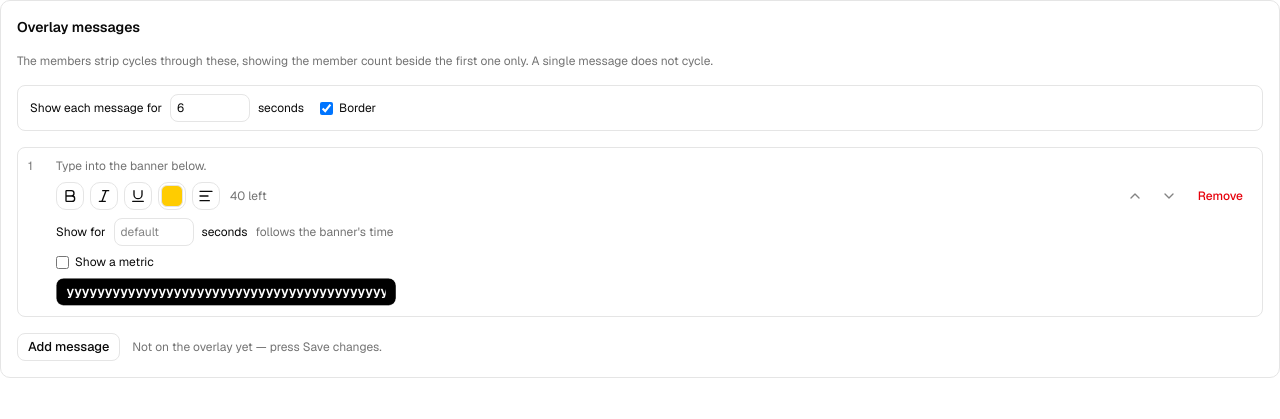
the visible length is capped, and formatting is free › refuses a message whose visible text goes over the cap
Clear the field named "Message 1" at (226, 292), box [66,284,386,300]
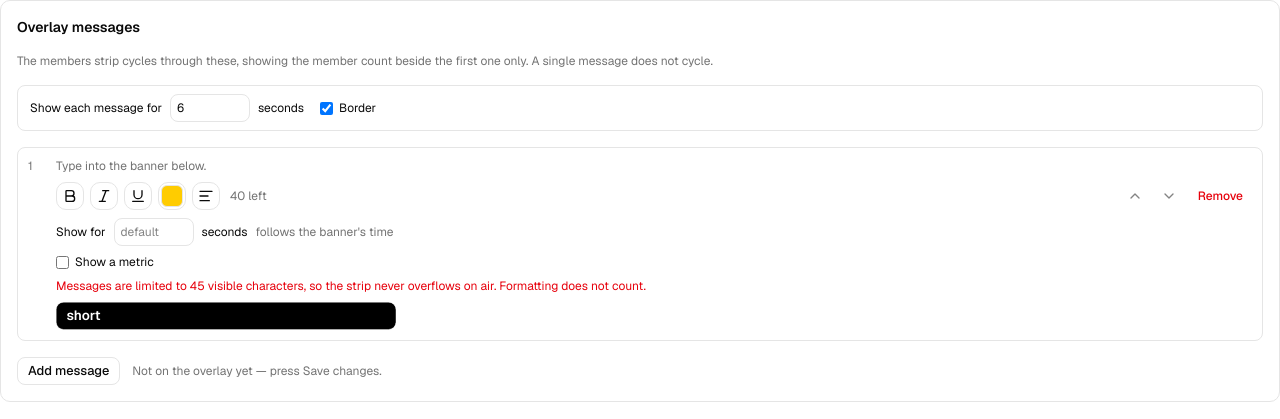
Now the text box labelled "short" is shown, box [66,308,100,324]
